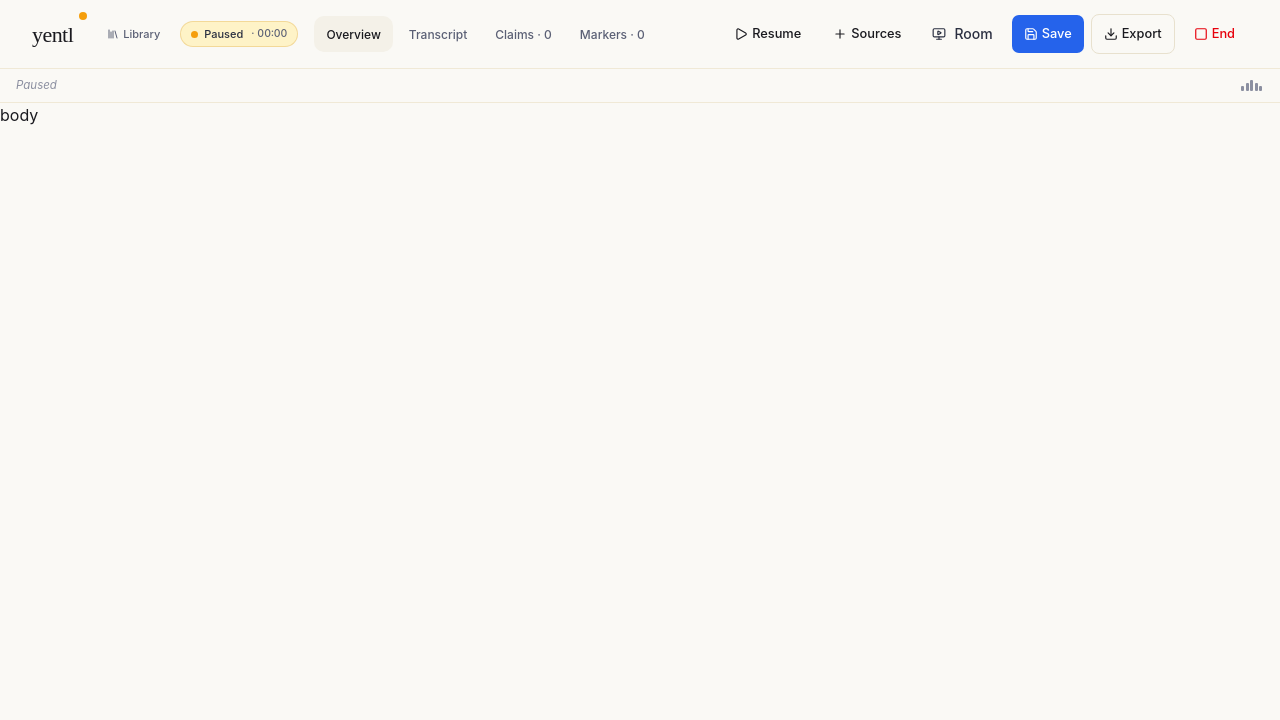
Test: Save button — SessionShell › clicking Save button opens SaveSessionDialog
This screenshot has width=1280, height=720.
Click the button "Save" at (1048, 34), box [1011, 14, 1085, 54]
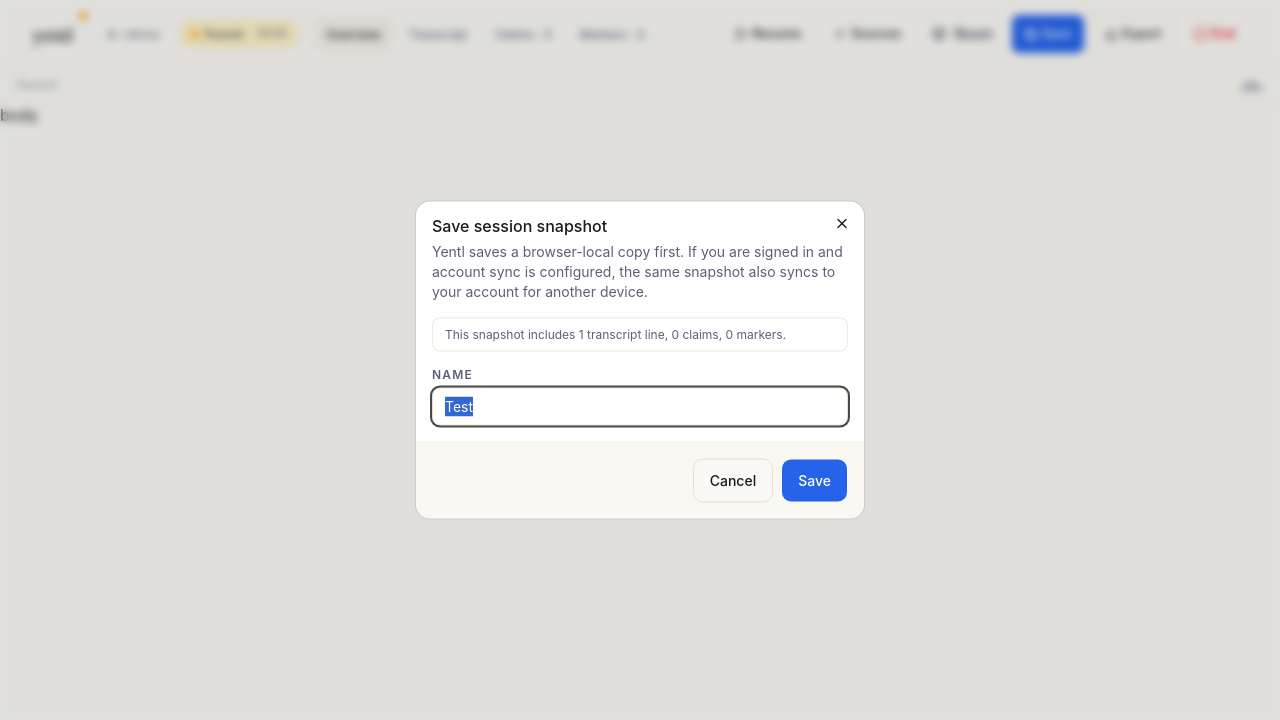
Result: the dialog is shown at [416, 202, 864, 518]
